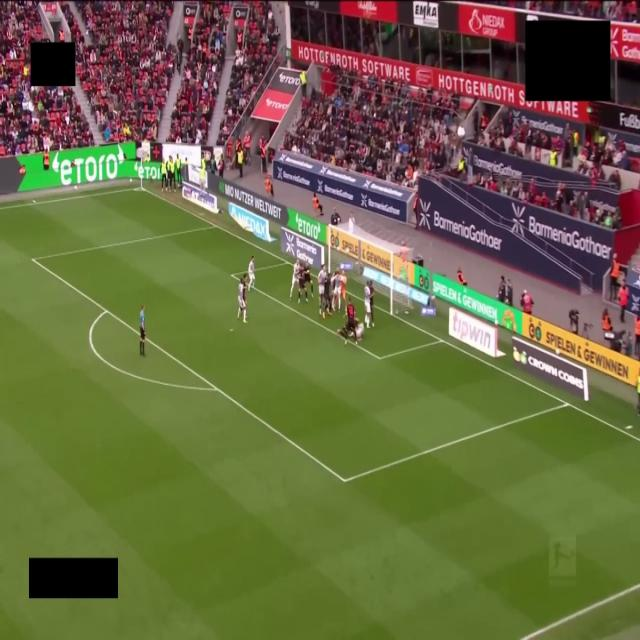player: (338, 298, 359, 344), (318, 264, 328, 319), (290, 260, 300, 300), (298, 263, 308, 303), (238, 275, 246, 322), (331, 270, 340, 311), (364, 281, 372, 327), (323, 274, 331, 318), (303, 263, 313, 297), (338, 270, 346, 310), (369, 280, 375, 327), (248, 256, 255, 290), (356, 323, 364, 340)
referee: (140, 305, 145, 356)
